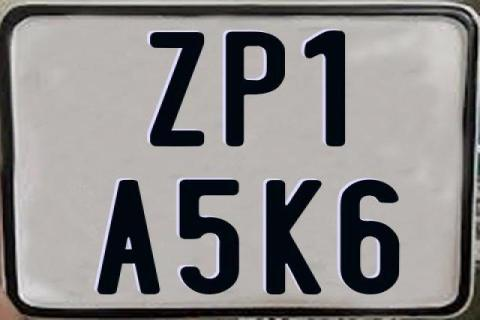0: (339, 180, 404, 300), (177, 179, 237, 299), (303, 30, 349, 148)
A: (98, 178, 160, 294)
K: (267, 179, 324, 295)
P: (225, 31, 290, 146)
Z: (150, 29, 210, 145)
